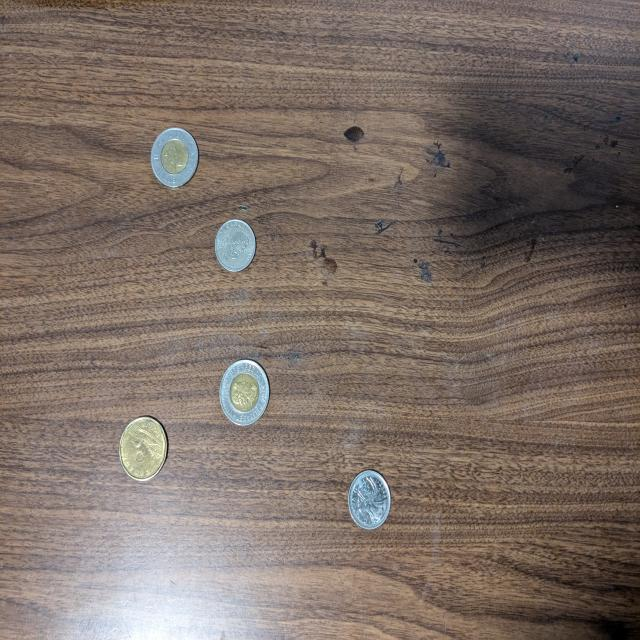loonie: (120, 416, 168, 481)
quarter: (350, 471, 390, 530), (215, 218, 256, 272)
toonie: (219, 360, 270, 426), (150, 128, 200, 187)
